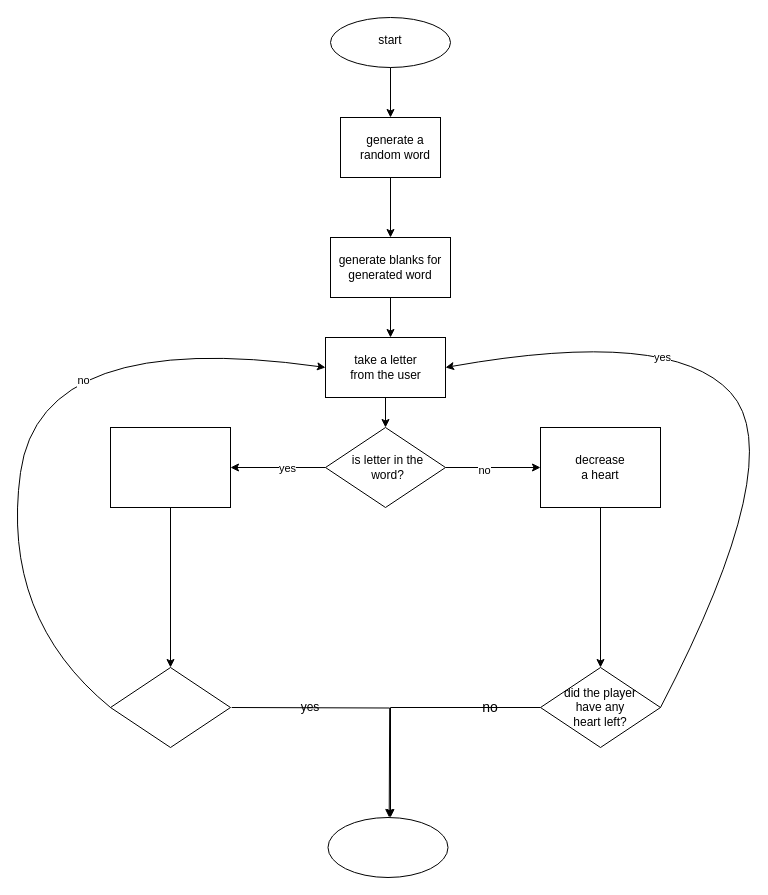
Some shapes in this 768 by 895 pixel diagram are drawn without their labels. Here are the shapes that lost their labels. From the top down, the centre of each, then its label:
point (170, 467): fiill the blank with the word
point (170, 707): is the word completed?
point (387, 847): game over
